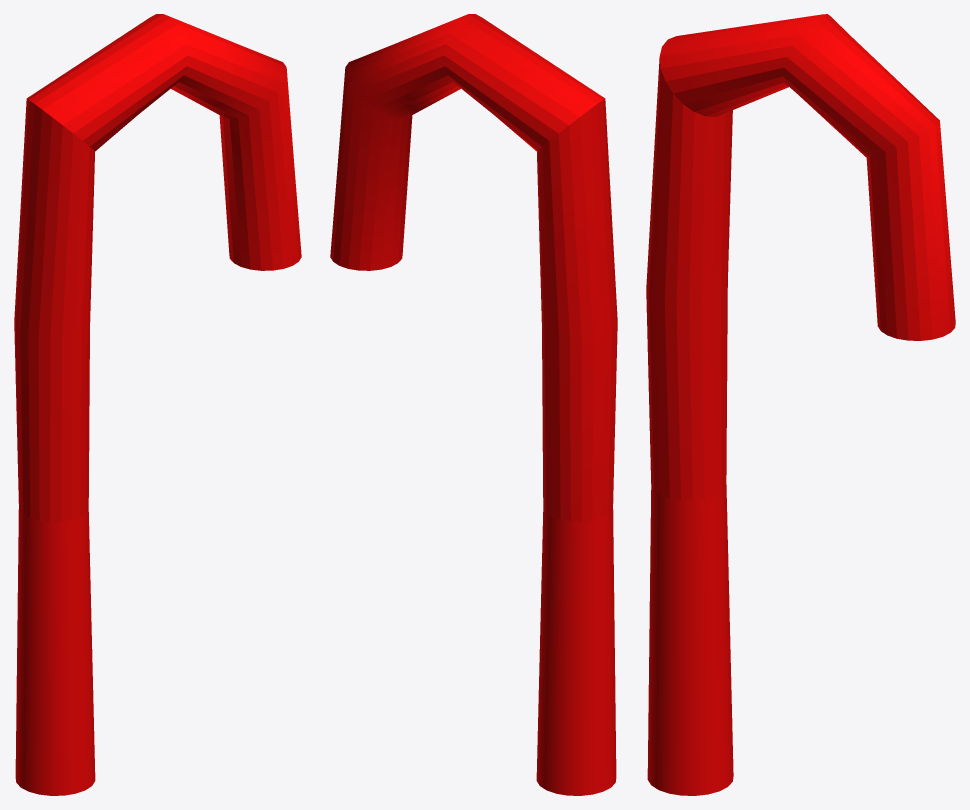
File: CandyCane01.obj
3 views of the same model, side by side, from view 1: azimuth 30°, elevation 25°; view 2: azimuth 150°, elevation 25°; view 3: azimuth 330°, elevation 25° (orthographic). The views are drawn at different scales.
Visible parts, largest first — view 1: CandyCane1; view 2: CandyCane1; view 3: CandyCane1.
Part boxes in pixels (x1,y1,x2,y2): CandyCane1: (14, 14, 301, 795); CandyCane1: (330, 14, 617, 795); CandyCane1: (646, 14, 955, 795).
Size of the model in its own units: 6.7 by 16.96 by 1.89.
